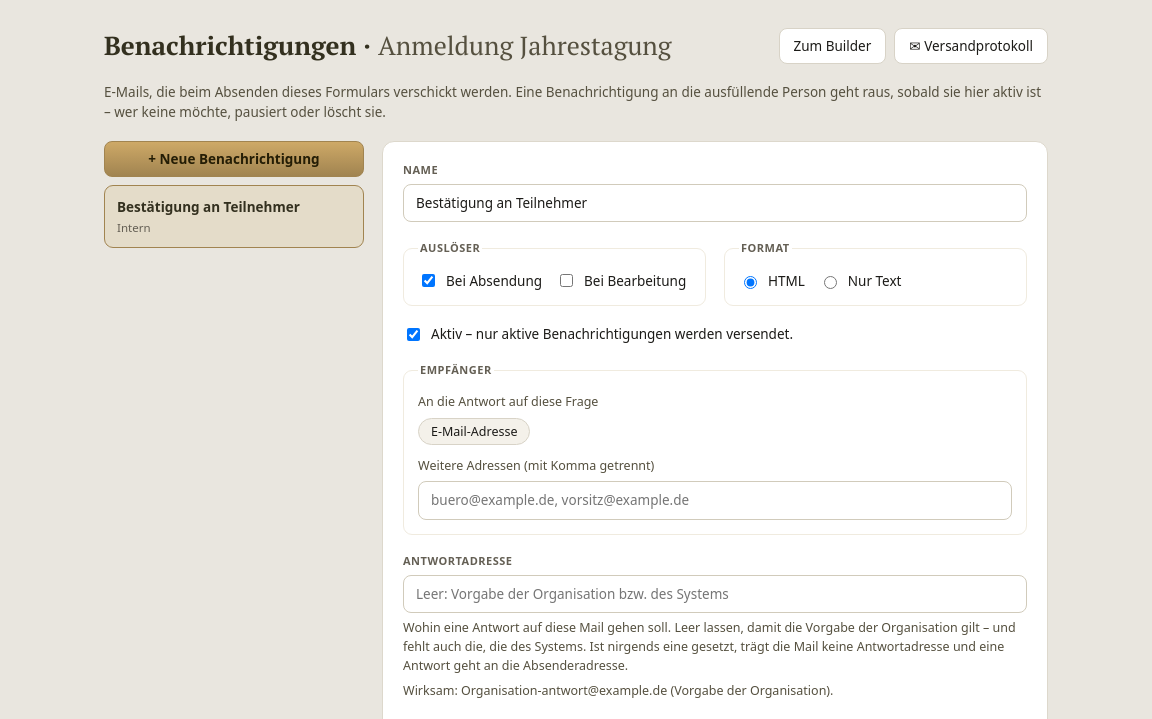
NotificationsView › checks „Bei Bearbeitung" once a question recipient is chosen
The image size is (1152, 719).
Expected: the field labelled "Name" is shown, [403,184,1027,222]
Expected: the checkbox with test id "trigger-edit" is not checked, [560,274,573,287]
Click the button "E-Mail-Adresse".
click(474, 431)  # box [418,418,530,444]
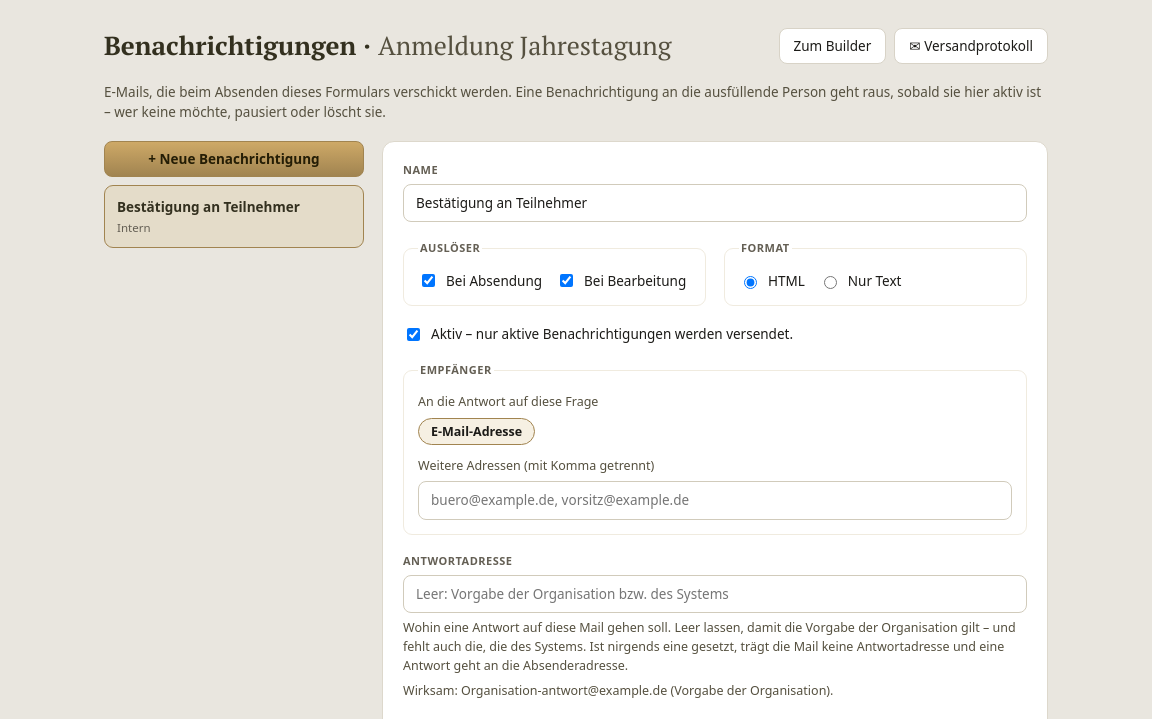
Expected: the checkbox with test id "trigger-edit" is checked, [560,274,573,287]
